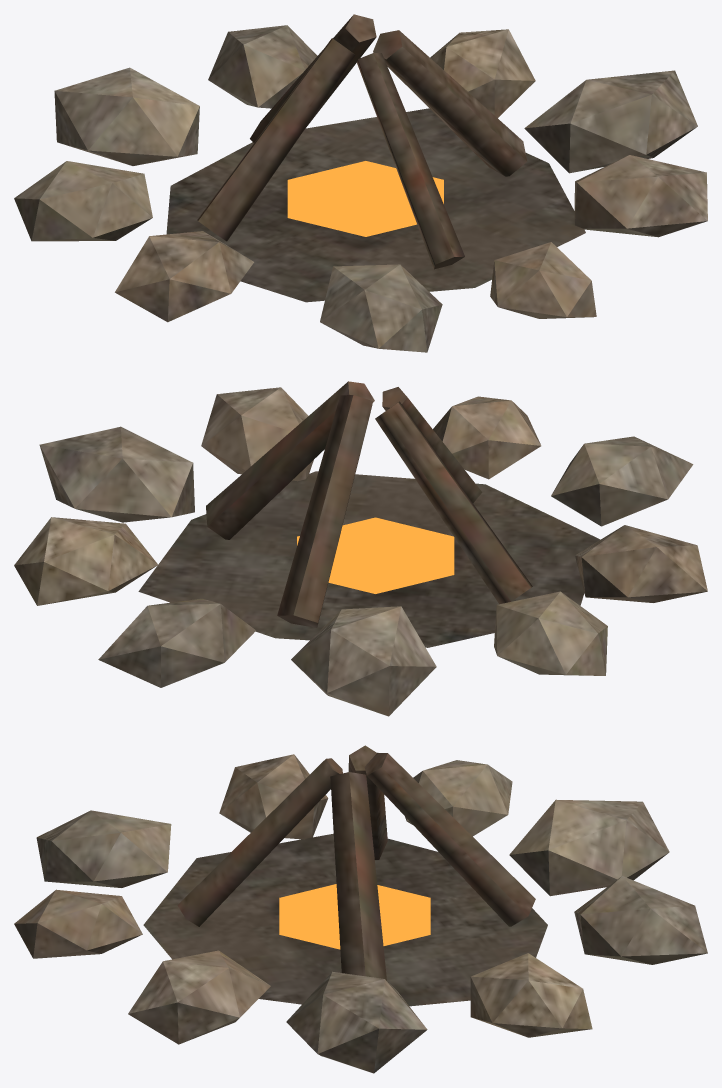
File: b_fire_far.glb
The picture shows the model from 3 angles, top to bottom: view 1: azimuth 30°, elevation 25°; view 2: azimuth 150°, elevation 25°; view 3: azimuth 270°, elevation 25°; orthographic projection. The views are drawn at different scales.
Parts seen in each view (by area): view 1: b_fire_far; view 2: b_fire_far; view 3: b_fire_far.
Part boxes in pixels (x1,y1,x2,y2): b_fire_far: [14, 14, 707, 352]; b_fire_far: [14, 381, 707, 716]; b_fire_far: [14, 745, 707, 1073].
Size of the model in its own units: 1.57 by 0.4481 by 1.59.
Materials: 2 (1 with a texture image).
